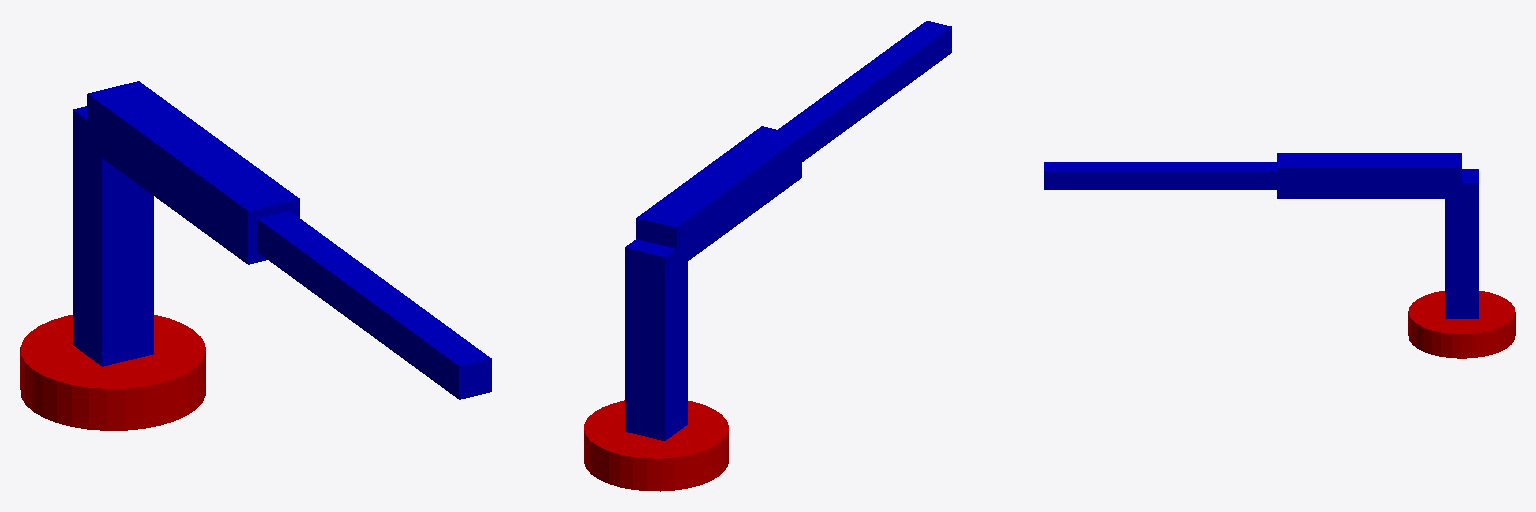
URDF robot description (divar3v44447):
<?xml version="1.0"?>
<robot  name="divar3v44447" >
 <material  name="blue" >
  <color  rgba="0 0 0.8 1.0" />
 </material>
 <material  name="red" >
  <color  rgba="0.8 0 0 1.0" />
 </material>
 <link  name="base_link" >
  <visual >
   <origin  xyz="0 0 0"  rpy="0 0 0" />
   <material  name="red" />
   <geometry >
    <cylinder  radius="0.1"  length="0.05" />
   </geometry>
  </visual>
 </link>
 <joint  name="joint1"  type="revolute" >
  <parent  link="base_link" />
  <child  link="link1" />
  <origin  xyz="0 0 0"  rpy="0 0 0" />
  <axis  xyz="0 0 1" />
 </joint>
 <link  name="link1" >
  <inertial >
   <origin  xyz="0 0 0.15235"  rpy="0 0 0" />
   <mass  value="2.6085632264507197" />
   <inertia  ixz="0.0"  ixy="0.0"  ixx="0.021069925608113643"  iyz="0.0"  izz="0.021069925608113643"  iyy="0.001775774242755928" />
  </inertial>
  <visual >
   <origin  xyz="0 0 0.15235"  rpy="0 0 0" />
   <material  name="blue" />
   <geometry >
    <box  size="0.06391 0.06391 0.3047" />
   </geometry>
  </visual>
  <collision >
   <origin  xyz="0 0 0.15235"  rpy="0 0 0" />
   <geometry >
    <box  size="0.06391 0.06391 0.3047" />
   </geometry>
  </collision>
 </link>
 <joint  name="joint2"  type="revolute" >
  <parent  link="link1" />
  <child  link="link2" />
  <origin  xyz="0 0 0.3047"  rpy="1.5707 0 0" />
  <axis  xyz="1 0 0" />
 </joint>
 <link  name="link2" >
  <inertial >
   <origin  xyz="0 0 0.14795053"  rpy="0 0 0" />
   <mass  value="2.5332347350961206" />
   <inertia  ixz="0.0"  ixy="0.0"  ixx="0.01934587571978997"  iyz="0.0"  izz="0.01934587571978997"  iyy="0.0017244945216677925" />
  </inertial>
  <visual >
   <origin  xyz="0 0 0.14795053"  rpy="0 0 0" />
   <material  name="blue" />
   <geometry >
    <box  size="0.06391 0.06391 0.29590106" />
   </geometry>
  </visual>
  <collision >
   <origin  xyz="0 0 0.14795053"  rpy="0 0 0" />
   <geometry >
    <box  size="0.06391 0.06391 0.29590106" />
   </geometry>
  </collision>
 </link>
 <joint  name="joint3"  type="revolute" >
  <parent  link="link2" />
  <child  link="link3" />
  <origin  xyz="0 0 0.29590106"  rpy="0 0 0" />
  <axis  xyz="0 0 1" />
 </joint>
 <link  name="link3" >
  <inertial >
   <origin  xyz="0 0 0.024949469999999998"  rpy="0 0 0" />
   <mass  value="0.42718916942195884" />
   <inertia  ixz="0.0"  ixy="0.0"  ixx="0.00023404243264144842"  iyz="0.0"  izz="0.00023404243264144842"  iyy="0.0002908081798254791" />
  </inertial>
  <visual >
   <origin  xyz="0 0 0.024949469999999998"  rpy="0 0 0" />
   <material  name="blue" />
   <geometry >
    <box  size="0.06391 0.06391 0.049898939999999996" />
   </geometry>
  </visual>
  <collision >
   <origin  xyz="0 0 0.024949469999999998"  rpy="0 0 0" />
   <geometry >
    <box  size="0.06391 0.06391 0.049898939999999996" />
   </geometry>
  </collision>
 </link>
 <joint  name="joint4"  type="revolute" >
  <parent  link="link3" />
  <child  link="link4" />
  <origin  xyz="0 0 0.049898939999999996"  rpy="0 0 0" />
  <axis  xyz="0 1 0" />
 </joint>
 <link  name="link4" >
  <inertial >
   <origin  xyz="0 0 0.06059917"  rpy="0 0 0" />
   <mass  value="0.4054352612207416" />
   <inertia  ixz="0.0"  ixy="0.0"  ixx="0.0005502107912114944"  iyz="0.0"  izz="0.0005502107912114944"  iyy="0.0001078459484160761" />
  </inertial>
  <visual >
   <origin  xyz="0 0 0.06059917"  rpy="0 0 0" />
   <material  name="blue" />
   <geometry >
    <box  size="0.03995 0.03995 0.12119834" />
   </geometry>
  </visual>
  <collision >
   <origin  xyz="0 0 0.06059917"  rpy="0 0 0" />
   <geometry >
    <box  size="0.03995 0.03995 0.12119834" />
   </geometry>
  </collision>
 </link>
 <joint  name="joint5"  type="revolute" >
  <parent  link="link4" />
  <child  link="link5" />
  <origin  xyz="0 0 0.12119834"  rpy="0 0 0" />
  <axis  xyz="0 0 1" />
 </joint>
 <link  name="link5" >
  <inertial >
   <origin  xyz="0 0 0.10130082999999998"  rpy="0 0 0" />
   <mass  value="0.6777473762912583" />
   <inertia  ixz="0.0"  ixy="0.0"  ixx="0.0024084563565522545"  iyz="0.0"  izz="0.0024084563565522545"  iyy="0.0001802810844882148" />
  </inertial>
  <visual >
   <origin  xyz="0 0 0.10130082999999998"  rpy="0 0 0" />
   <material  name="blue" />
   <geometry >
    <box  size="0.03995 0.03995 0.20260165999999996" />
   </geometry>
  </visual>
  <collision >
   <origin  xyz="0 0 0.10130082999999998"  rpy="0 0 0" />
   <geometry >
    <box  size="0.03995 0.03995 0.20260165999999996" />
   </geometry>
  </collision>
 </link>
 <joint  name="joint6"  type="revolute" >
  <parent  link="link5" />
  <child  link="link6" />
  <origin  xyz="0 0 0.20260165999999996"  rpy="0 0 0" />
  <axis  xyz="0 1 0" />
 </joint>
 <link  name="link6" >
  <inertial >
   <origin  xyz="0 0 0.005"  rpy="0 0 0" />
   <mass  value="0.0334522124" />
   <inertia  ixz="0.0"  ixy="0.0"  ixx="1.1665032058872702e-05"  iyz="0.0"  izz="1.1665032058872702e-05"  iyy="2.2772527244412068e-05" />
  </inertial>
  <visual >
   <origin  xyz="0 0 0.005"  rpy="0 0 0" />
   <material  name="blue" />
   <geometry >
    <box  size="0.03995 0.03995 0.01" />
   </geometry>
  </visual>
  <collision >
   <origin  xyz="0 0 0.005"  rpy="0 0 0" />
   <geometry >
    <box  size="0.03995 0.03995 0.01" />
   </geometry>
  </collision>
 </link>
 <joint  name="joint7"  type="revolute" >
  <parent  link="link6" />
  <child  link="link7" />
  <origin  xyz="0 0 0.01"  rpy="0 0 0" />
  <axis  xyz="1 0 0" />
 </joint>
 <link  name="link7" >
  <inertial >
   <origin  xyz="0 0 0.05"  rpy="0 0 0" />
   <mass  value="0.33452212400000003" />
   <inertia  ixz="0.0"  ixy="0.0"  ixx="0.00032325994885077595"  iyz="0.0"  izz="0.00032325994885077595"  iyy="8.898302436821834e-05" />
  </inertial>
  <visual >
   <origin  xyz="0 0 0.05"  rpy="0 0 0" />
   <material  name="blue" />
   <geometry >
    <box  size="0.03995 0.03995 0.1" />
   </geometry>
  </visual>
  <collision >
   <origin  xyz="0 0 0.05"  rpy="0 0 0" />
   <geometry >
    <box  size="0.03995 0.03995 0.1" />
   </geometry>
  </collision>
 </link>
 <joint  name="eef_joint"  type="fixed" >
  <parent  link="link7" />
  <child  link="eef" />
  <origin  xyz="0 0 0.1"  rpy="0 0 0" />
 </joint>
 <link  name="eef" />
</robot>

--- Render facts (derived) ---
Views: 3 orthographic renders of the robot side by side, from view 1: azimuth 30°, elevation 25°; view 2: azimuth 150°, elevation 25°; view 3: azimuth 270°, elevation 25°.
Robot: divar3v44447 — 9 links, 8 joints (7 revolute, 1 fixed); root link base_link; default pose: all joints at 0.
Links seen in each view (by area): view 1: link1, base_link, link2, link5, link7, link4, link3; view 2: link1, base_link, link2, link5, link4, link7, link3; view 3: link2, base_link, link1, link5, link4, link7, link3.
Link boxes in pixels (<box>): link1: <box>73,106,153,366</box>; base_link: <box>20,315,205,430</box>; link2: <box>87,81,275,247</box>; link5: <box>314,252,439,361</box>; link7: <box>413,325,491,399</box>; link4: <box>258,211,344,292</box>; link3: <box>225,182,299,264</box>; link1: <box>625,239,687,440</box>; base_link: <box>584,400,728,491</box>; link2: <box>636,140,783,265</box>; link5: <box>814,50,911,134</box>; link4: <box>778,104,838,161</box>; link7: <box>891,21,951,78</box>; link3: <box>744,126,801,190</box>; link2: <box>1304,153,1461,198</box>; base_link: <box>1408,291,1515,358</box>; link1: <box>1445,169,1478,318</box>; link5: <box>1103,162,1211,189</box>; link4: <box>1212,162,1276,189</box>; link7: <box>1044,162,1097,189</box>; link3: <box>1277,153,1303,198</box>.
Bounding box of the posed robot: 0.2 × 0.8796 × 0.3617 m (x, y, z).
Geometry: primitives only (box / cylinder / sphere), no mesh files.